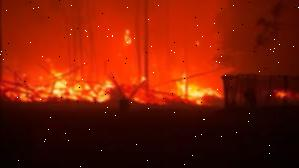fire: (0, 66, 228, 106)
